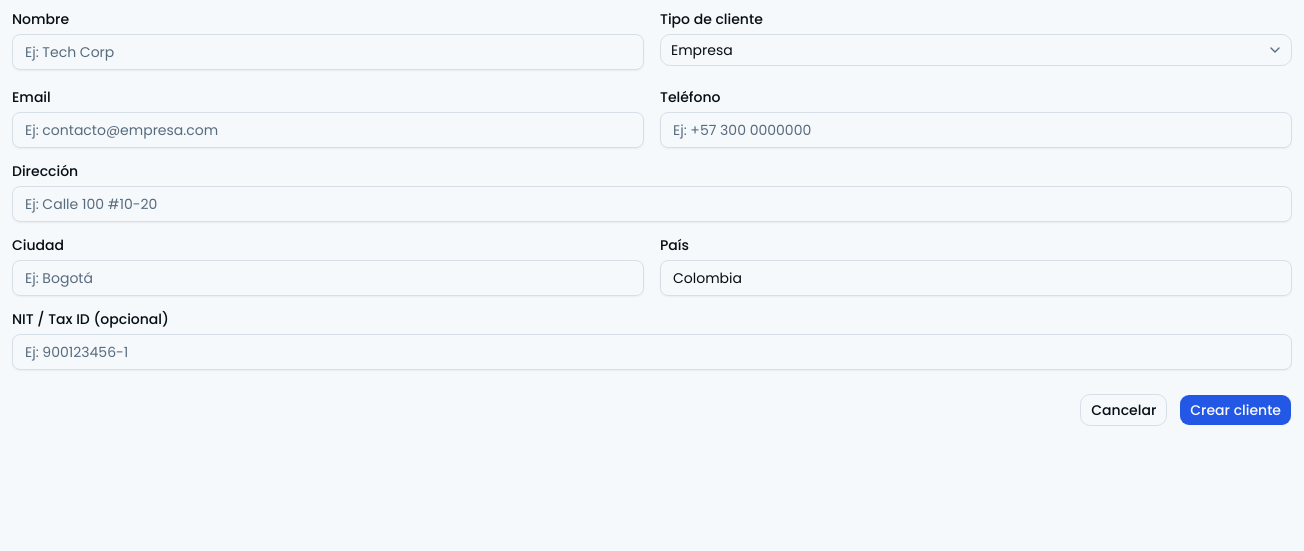
Test: CustomerForm — validación › muestra errores para campos requeridos al enviar sin completar
The image size is (1304, 551).
// Limpiamos los defaults de country (tiene "Colombia" por defecto)
Clear the field labelled "País". click: coordinates (976, 278)
box: [660,260,1292,296]
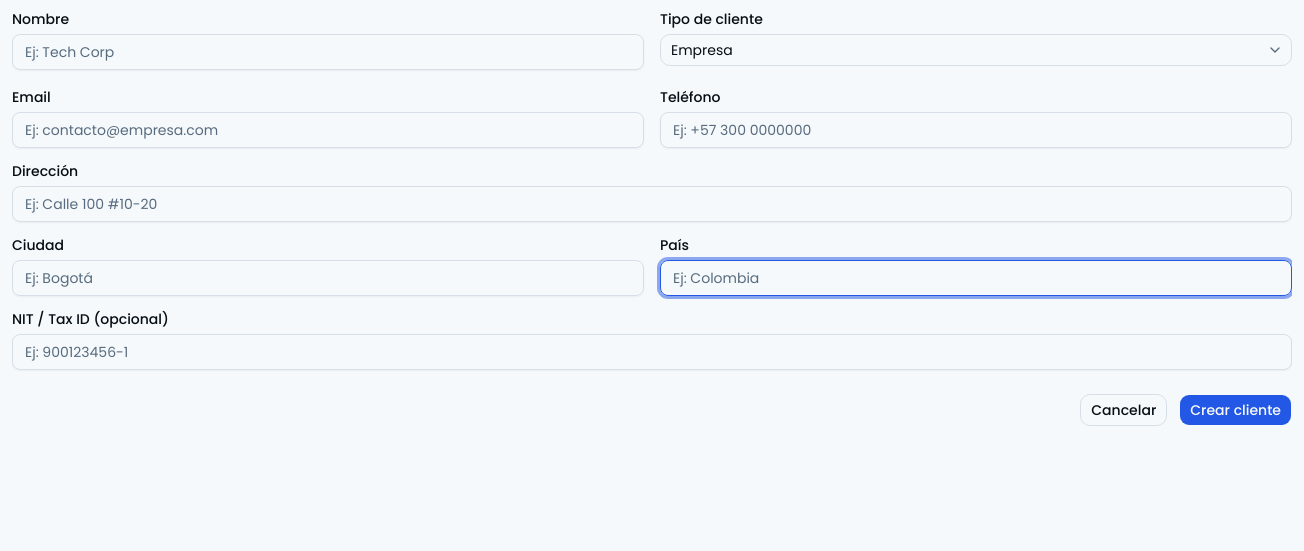
Click the button "Crear cliente". click: coordinates (1236, 410)
box: [1179,394,1292,426]
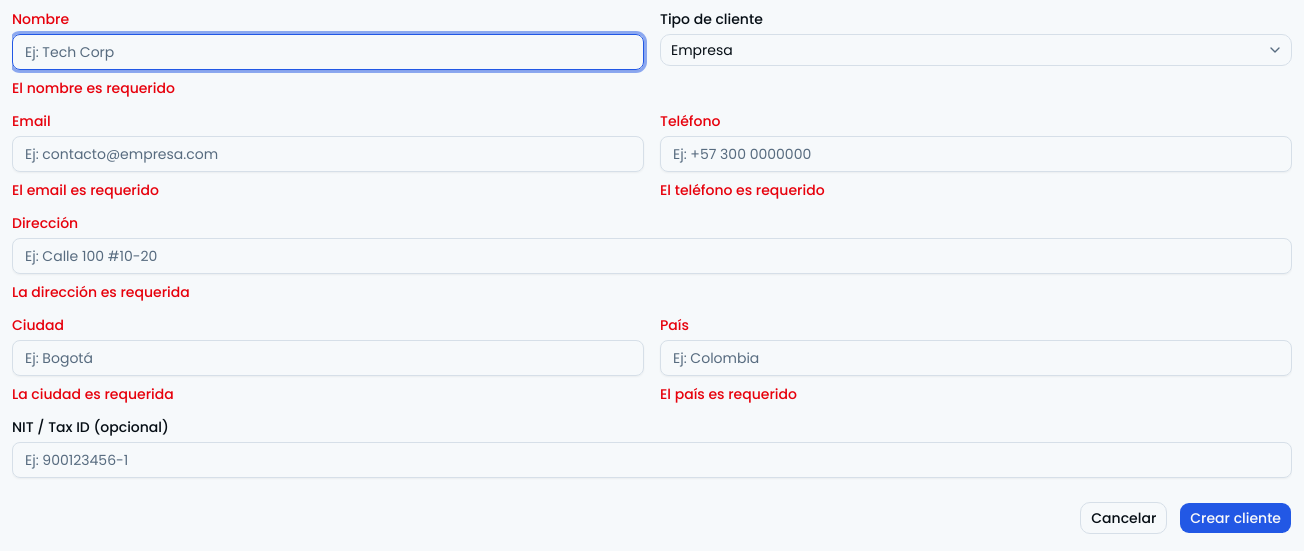
Expected: the text "El nombre es requerido" is shown, [12,78,175,98]
Expected: the text "El email es requerido" is shown, [12,180,159,200]
Expected: the text "El teléfono es requerido" is shown, [660,180,825,200]
